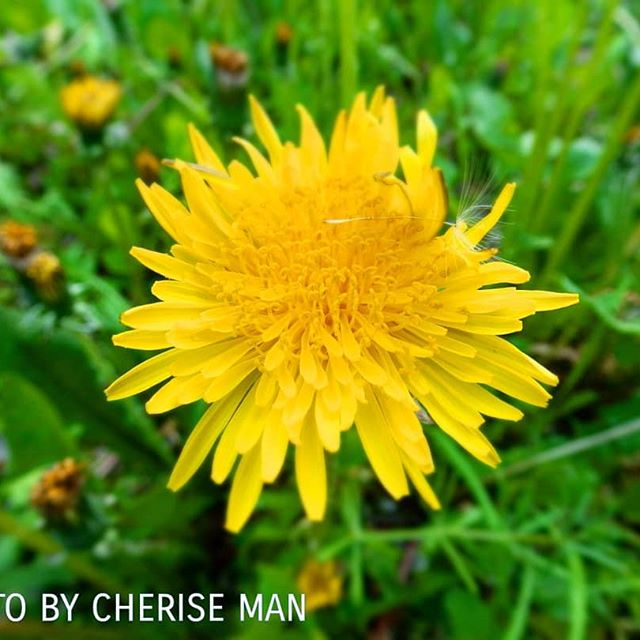dandelion: (161, 154, 510, 462)
